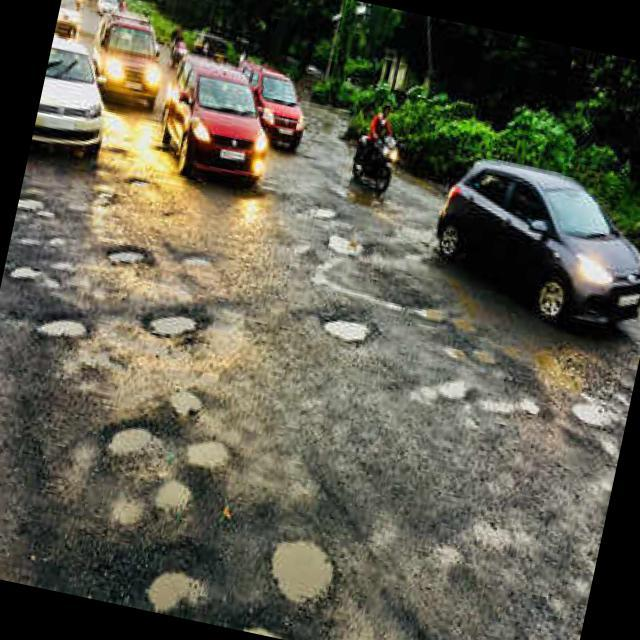Pothole: (264, 528, 338, 605), (324, 226, 418, 278), (412, 295, 494, 345), (140, 560, 208, 617), (140, 299, 205, 346), (32, 304, 92, 352), (566, 391, 626, 436), (318, 308, 373, 350), (185, 428, 232, 472), (108, 418, 156, 458), (15, 188, 64, 226), (105, 240, 154, 274), (152, 469, 184, 516), (7, 252, 48, 288), (297, 193, 338, 224), (178, 247, 218, 276)
